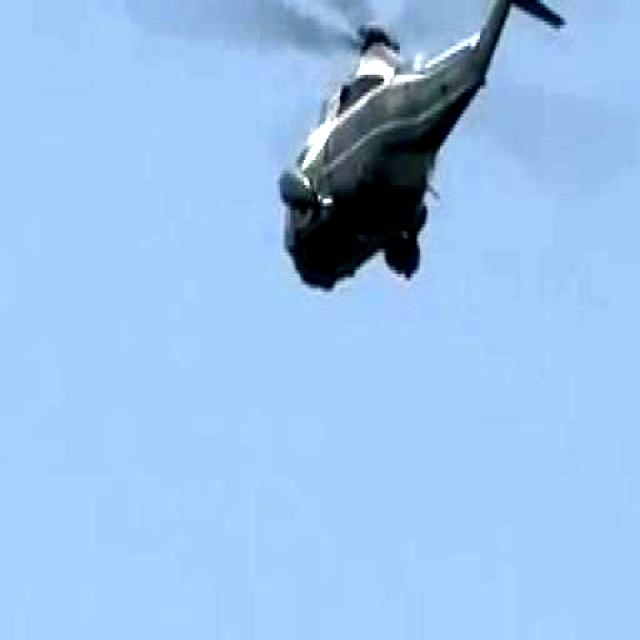drone: (96, 0, 579, 314)
